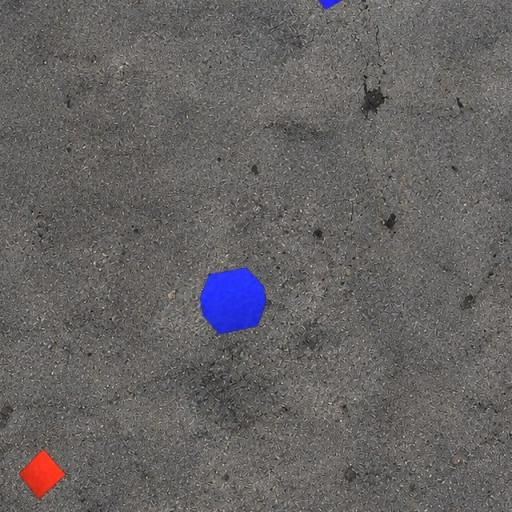RED_SQUARE: (18, 448, 66, 501)
